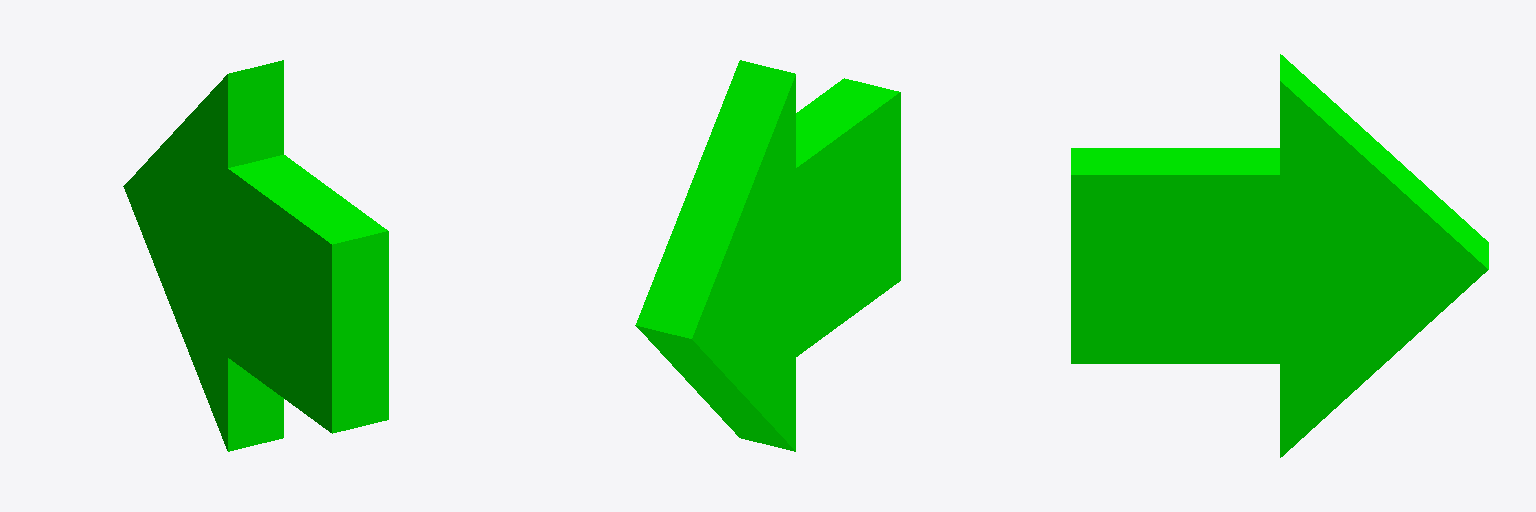
The model's file is arrow_down.obj.
3 renders of one model, left to right at view 1: azimuth 30°, elevation 25°; view 2: azimuth 150°, elevation 25°; view 3: azimuth 270°, elevation 25°, orthographic.
Visible parts, largest first — view 1: unnamed_object1; view 2: unnamed_object1; view 3: unnamed_object1.
Boxes of the visible parts, <box> form: unnamed_object1: <box>123,60,388,451</box>; unnamed_object1: <box>635,60,900,451</box>; unnamed_object1: <box>1071,54,1488,457</box>.
Bounding box in the file's own units: 0.25 × 1.6 × 1.6.